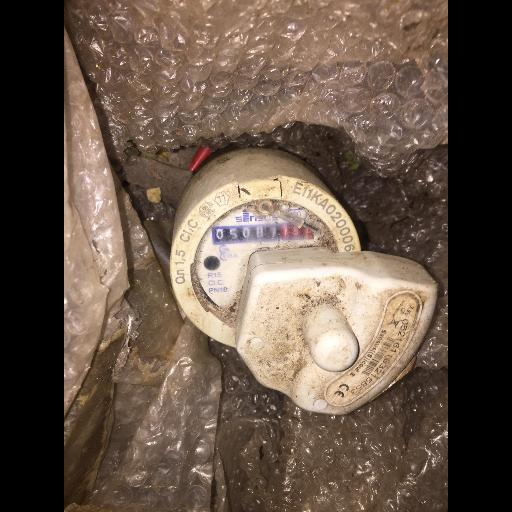0: (215, 229, 225, 242), (241, 227, 251, 240), (292, 224, 300, 236)
1: (281, 225, 289, 238), (303, 227, 311, 240)
5: (229, 227, 239, 241)
7: (268, 227, 278, 240)
8: (254, 226, 264, 239)
border_water_meter_number: (212, 221, 315, 245)
